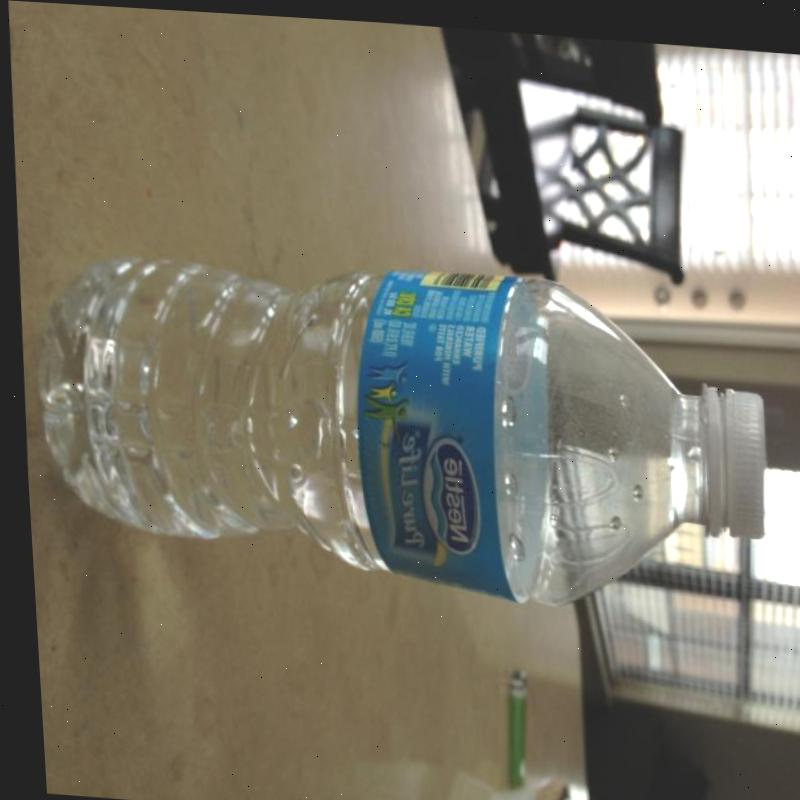botella: (21, 233, 769, 620)
